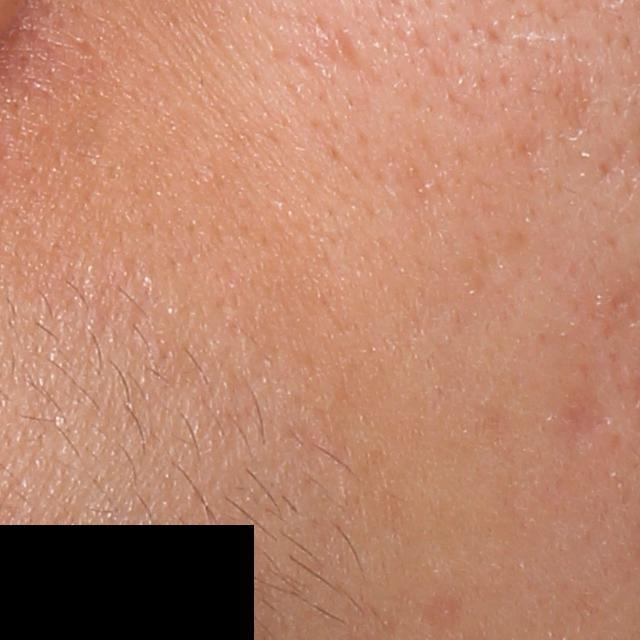atrophic_scar: (559, 385, 603, 439), (336, 24, 368, 71)
